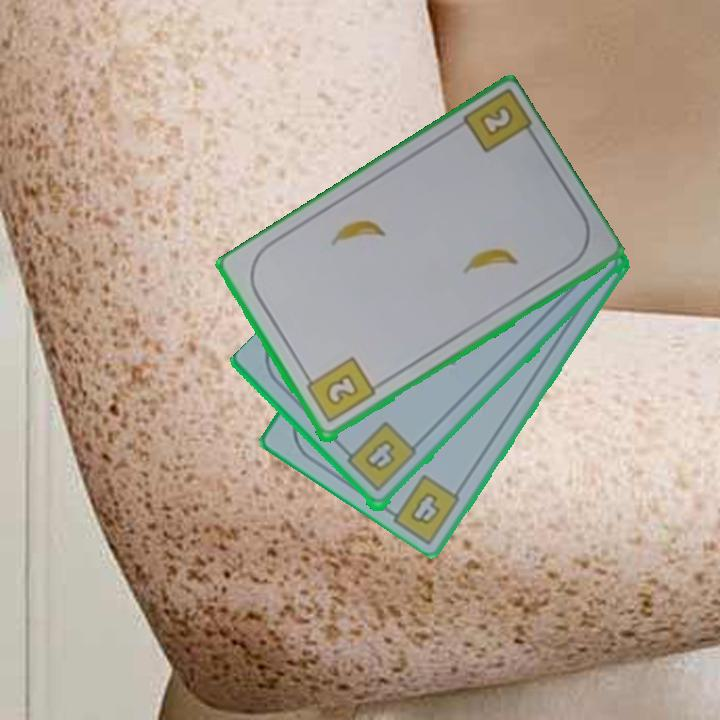2b: (300, 354, 378, 426), (476, 101, 517, 140)
4b: (339, 419, 419, 495), (406, 488, 444, 529)
